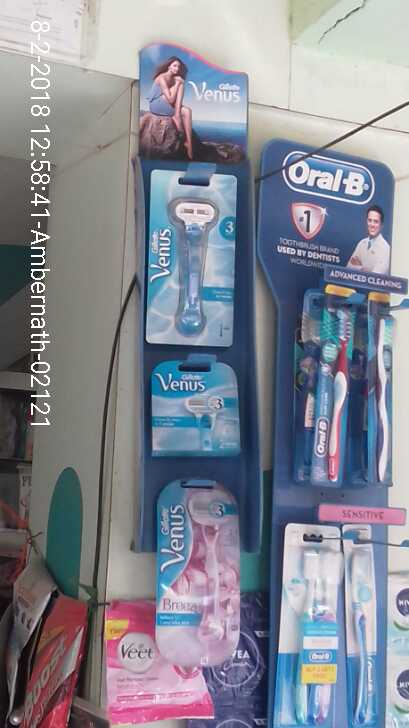beauty: (155, 474, 243, 672), (147, 168, 240, 352), (151, 360, 240, 453)
pharmacy: (314, 294, 355, 486), (297, 539, 334, 718), (350, 543, 380, 722), (372, 298, 393, 491)
